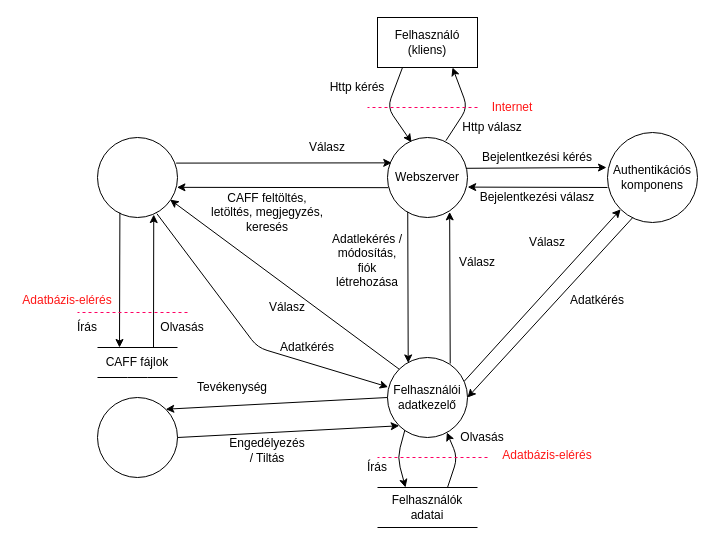
This 715x546 diagram has some shape labels left out. Here are the shapes that lost their labels. From the top down, the centre of each, then its label:
At point (137, 177): "CAFF fájl kezelő".
At point (137, 437): "Hozzáférés szabályzó komponens".
